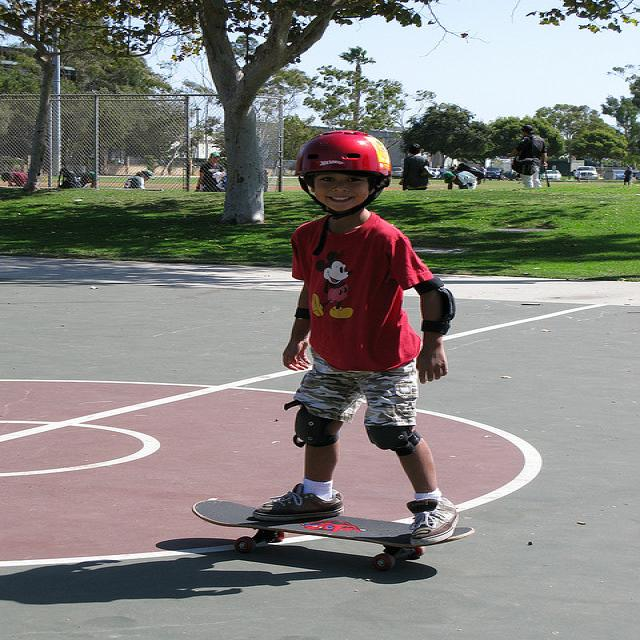Vehicle: (572, 165, 602, 181), (542, 170, 562, 181), (391, 167, 404, 177)
